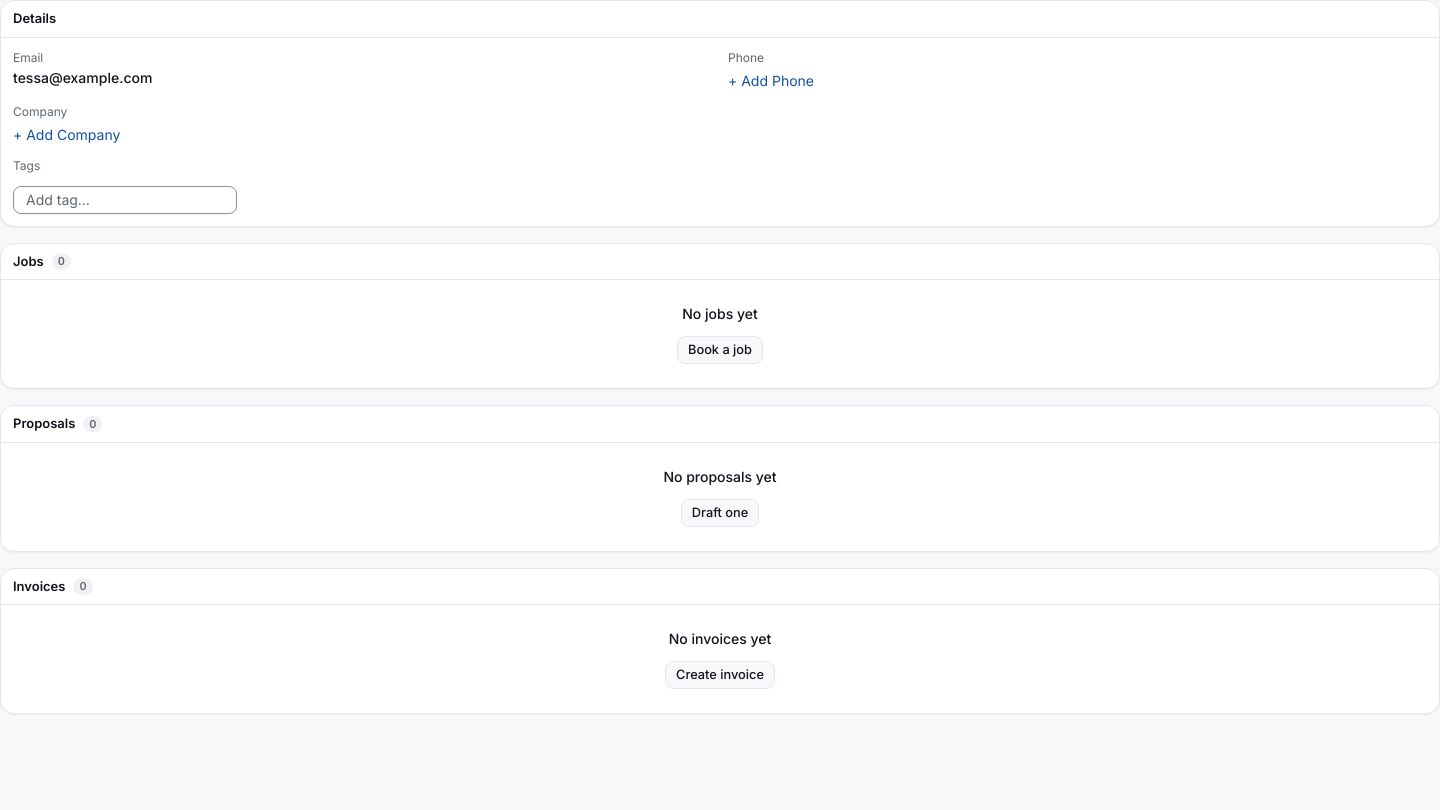
Scenario: ClientWorkingRail › flags a save failure with an alert and keeps the draft
The image size is (1440, 810).
Step 1. Click the button "tessa@example.com" → (83,78), box [13, 68, 152, 88]
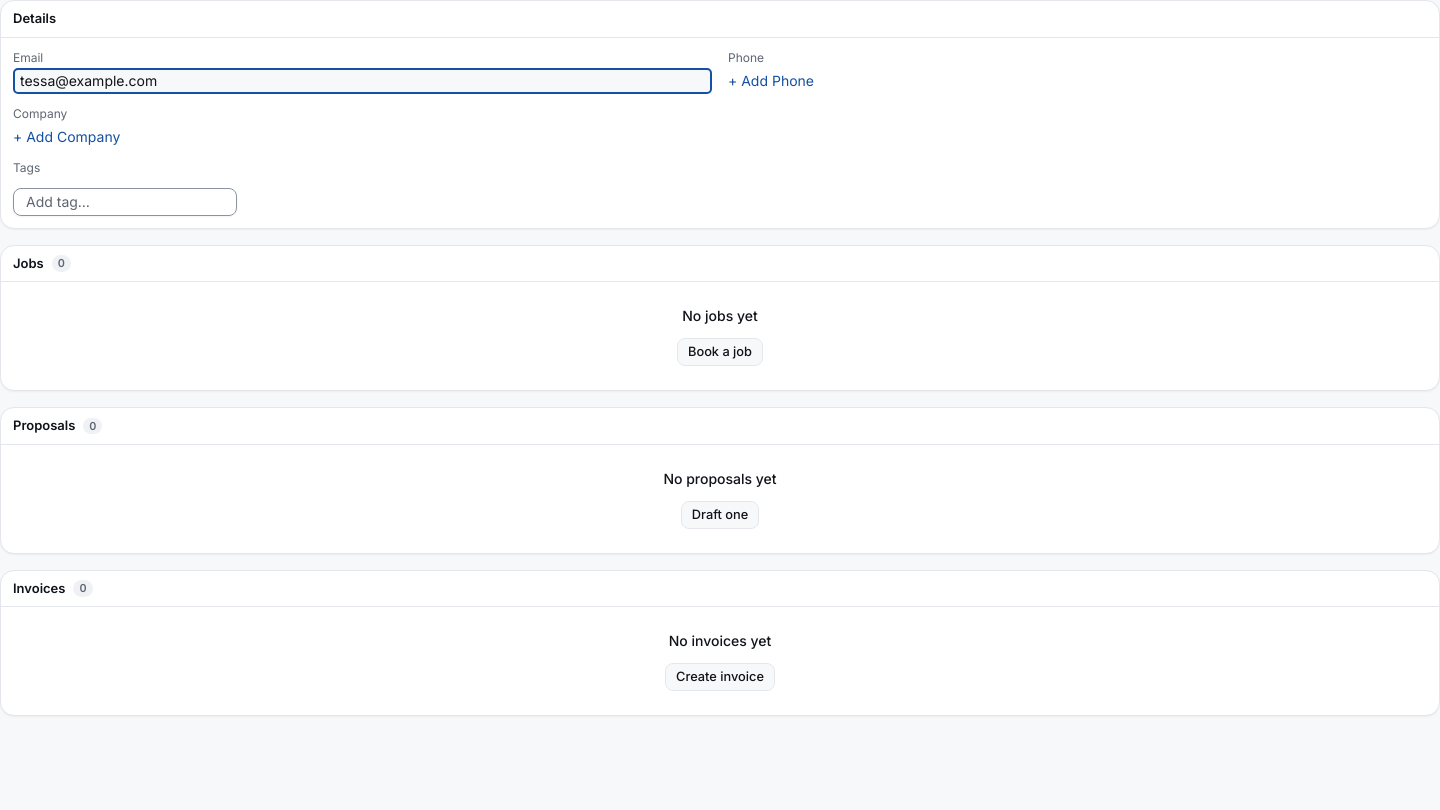
Step 2. Replace the text in the field named "Email" with "new@example.com" → (362,80), box [13, 68, 712, 94]
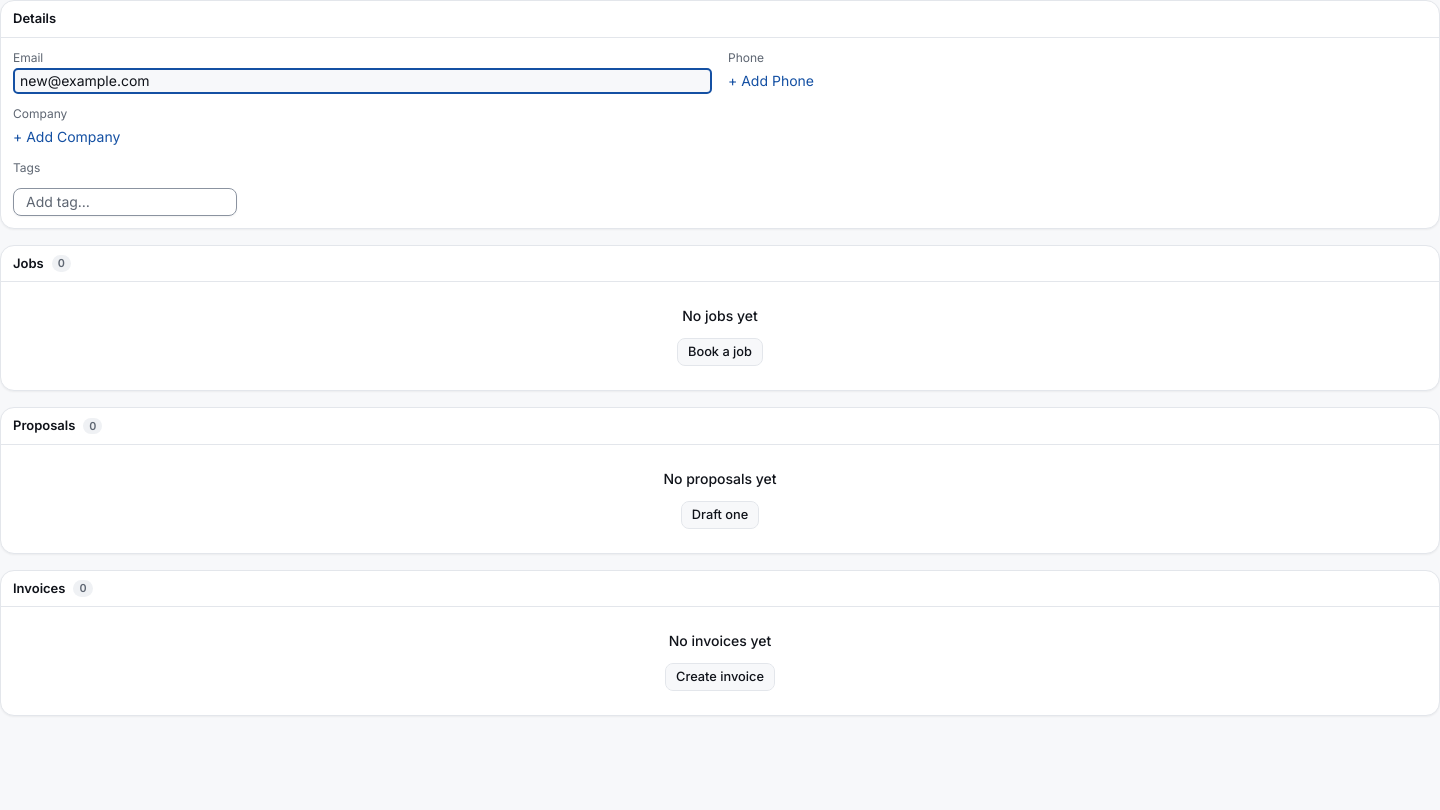
Step 3. Press Enter in the field named "Email", box [13, 68, 712, 94]
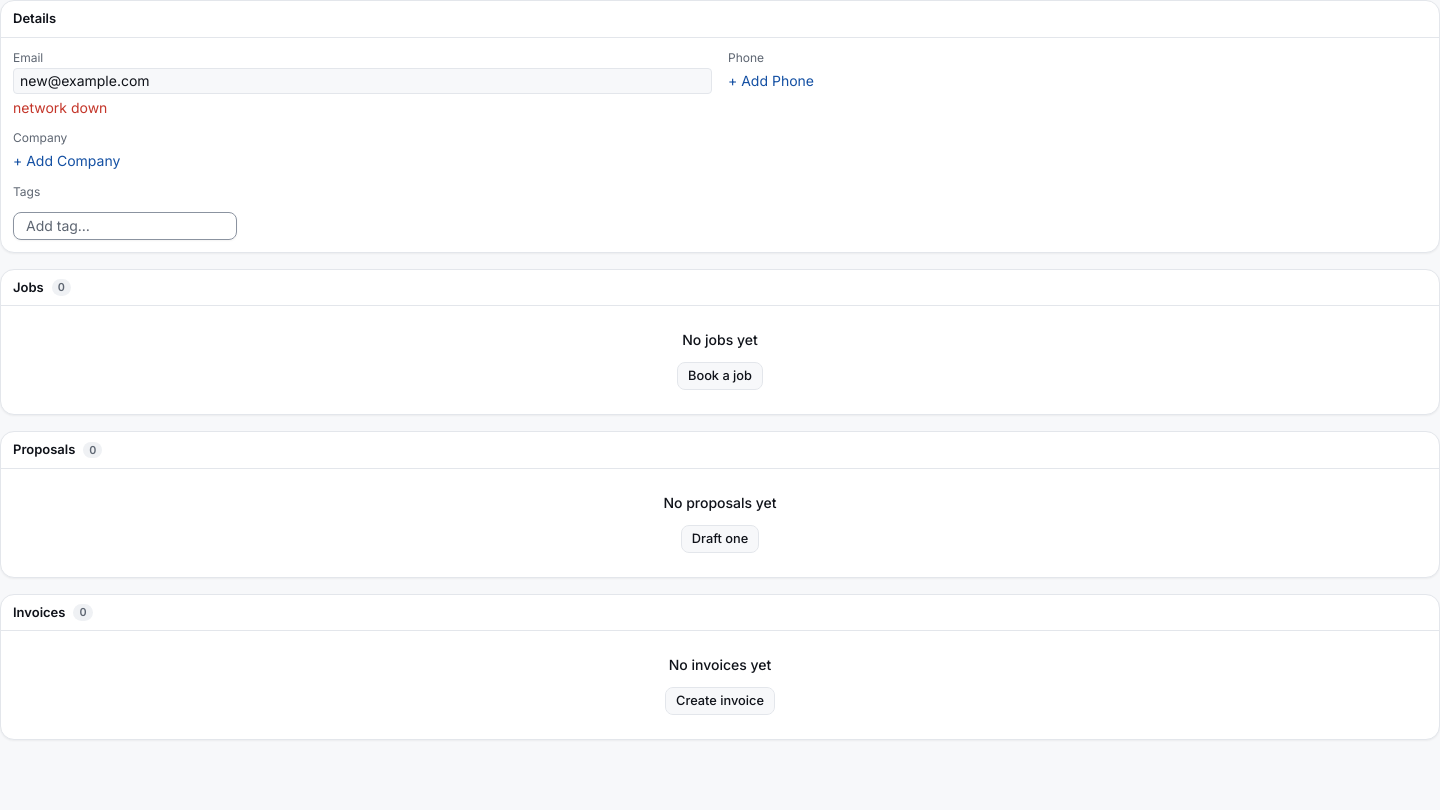
Now the message reads "network down", box [13, 98, 107, 116]
